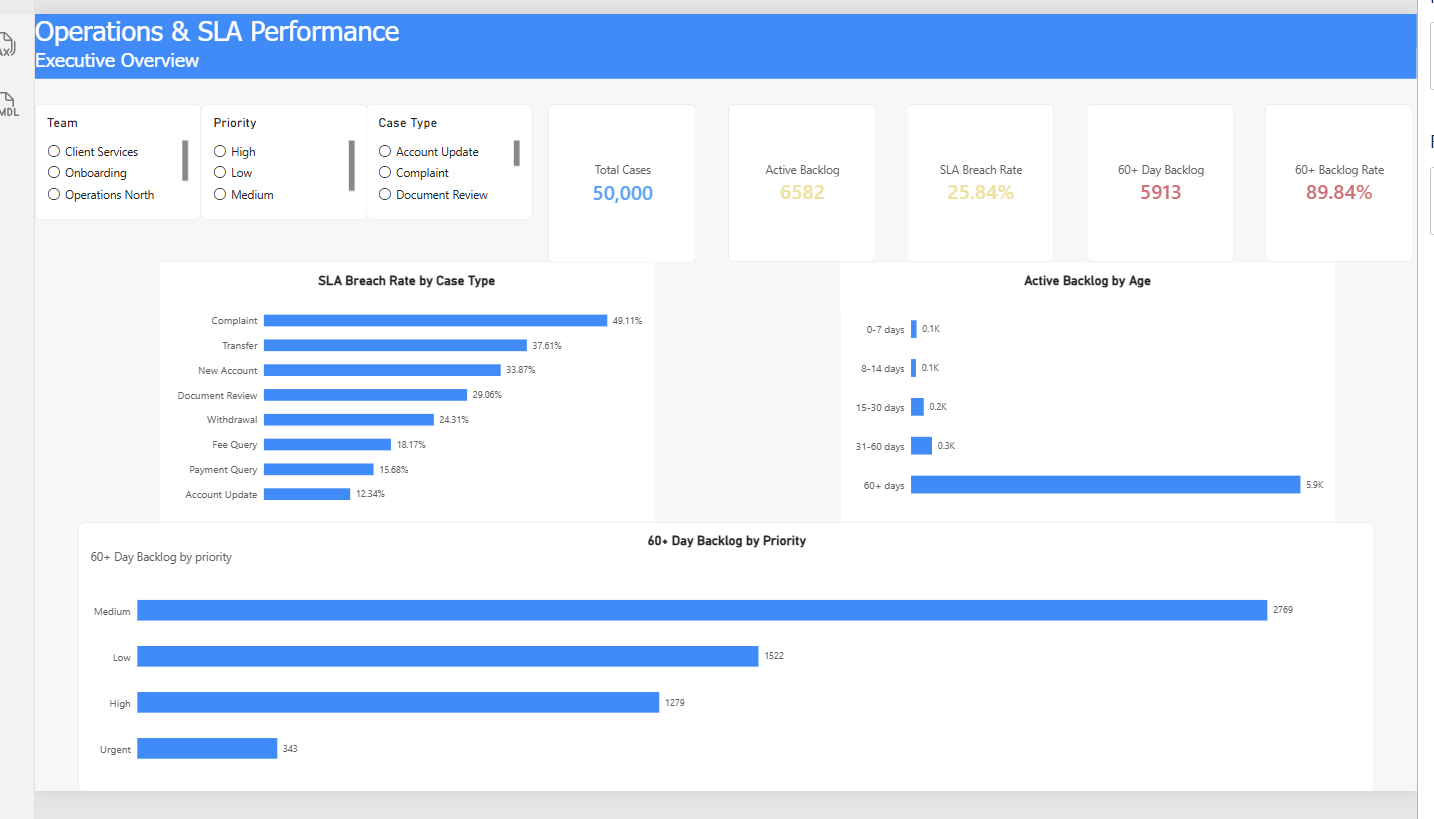

What the dashboard file says about the page in this screenshot:
{"tool":"powerbi","page":{"name":"Executive Overview ","canvas":[1920,1080],"ordinal":0},"visuals":[{"type":"cardVisual","fields":{"Data":["analysis_cases (002).Total Cases"]},"box":[711.8,125.5,206.5,220.1],"z":0,"group":"g1"},{"type":"clusteredBarChart","title":"SLA Breach Rate by Case Type","fields":{"Category":["analysis_cases (002).case_type"],"Y":["analysis_cases (002).SLA Breach Rate"]},"box":[172.8,345.6,687.1,360],"z":0},{"type":"cardVisual","fields":{"Data":["analysis_cases (002).Active Backlog"]},"box":[961.6,126,205.8,219.1],"z":1000,"group":"g1"},{"type":"clusteredBarChart","title":"Active Backlog by Age","fields":{"Category":["analysis_cases (002).ageing_bucket"],"Y":["analysis_cases (002).Active Backlog"]},"box":[1119.1,345.6,687,360],"z":1000},{"type":"cardVisual","fields":{"Data":["analysis_cases (002).SLA Breach Rate"]},"box":[1210.6,126,205.8,219.1],"z":2000,"group":"g1"},{"type":"barChart","title":"60+ Day Backlog by Priority","fields":{"Category":["analysis_cases (002).priority"],"Y":["analysis_cases (002).60+ Day Backlog"]},"box":[60,705.6,1800,374.4],"z":2000},{"type":"cardVisual","fields":{"Data":["analysis_cases (002).60+ Day Backlog"]},"box":[1459.7,126,205.8,219.1],"z":3000,"group":"g1"},{"type":"cardVisual","fields":{"Data":["analysis_cases (002).60+ Backlog Rate"]},"box":[1708.7,126,205.8,219.1],"z":4000,"group":"g1"},{"type":"shape","title":"Operations & SLA Performance","box":[0,0,1919.3,90],"z":6000},{"type":"textbox","box":[1251,0,179,150],"z":7000},{"type":"group","id":"g1","title":"Group 1","box":[711.8,125.5,1203.4,220.1],"z":8000},{"type":"listSlicer","fields":{"Values":["analysis_cases (002).team"]},"box":[0,102.1,208.4,160.5],"z":8001},{"type":"listSlicer","fields":{"Values":["analysis_cases (002).priority"]},"box":[208.4,102.1,208,160.5],"z":8002},{"type":"listSlicer","fields":{"Values":["analysis_cases (002).case_type"]},"box":[416.8,102.1,208,160.5],"z":8003}]}

Visuals, with their boxes on the page's 1920x1080 design canvas (x1, y1, x2, y2). These are canvas units, not pixel positions in the 1434x819 screenshot, which may show the page scaled, cropped or inside an application window:
cardVisual - analysis_cases (002).Total Cases: x1=712 y1=126 x2=918 y2=346
"SLA Breach Rate by Case Type" clusteredBarChart: x1=173 y1=346 x2=860 y2=706
cardVisual - analysis_cases (002).Active Backlog: x1=962 y1=126 x2=1167 y2=345
"Active Backlog by Age" clusteredBarChart: x1=1119 y1=346 x2=1806 y2=706
cardVisual - analysis_cases (002).SLA Breach Rate: x1=1211 y1=126 x2=1416 y2=345
"60+ Day Backlog by Priority" barChart: x1=60 y1=706 x2=1860 y2=1080
cardVisual - analysis_cases (002).60+ Day Backlog: x1=1460 y1=126 x2=1666 y2=345
cardVisual - analysis_cases (002).60+ Backlog Rate: x1=1709 y1=126 x2=1914 y2=345
"Operations & SLA Performance" shape: x1=0 y1=0 x2=1919 y2=90
textbox: x1=1251 y1=0 x2=1430 y2=150
"Group 1" group: x1=712 y1=126 x2=1915 y2=346
listSlicer - analysis_cases (002).team: x1=0 y1=102 x2=208 y2=263
listSlicer - analysis_cases (002).priority: x1=208 y1=102 x2=416 y2=263
listSlicer - analysis_cases (002).case_type: x1=417 y1=102 x2=625 y2=263
